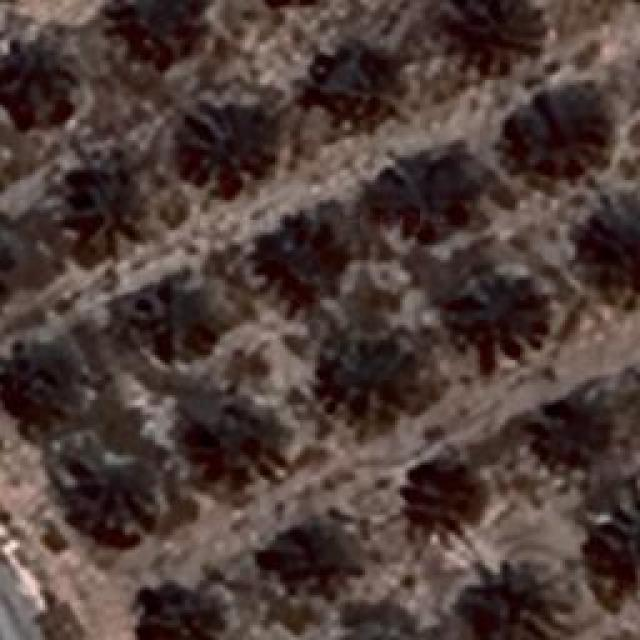PalmTree: (11, 68, 73, 265), (182, 99, 282, 199), (58, 158, 150, 248), (141, 274, 229, 366), (399, 448, 479, 542), (455, 270, 533, 358), (81, 458, 161, 542), (271, 516, 354, 596), (185, 392, 270, 470), (337, 338, 415, 420), (448, 0, 536, 72), (262, 215, 336, 300), (322, 45, 402, 123), (470, 565, 552, 640), (4, 340, 78, 422), (118, 0, 205, 68), (395, 162, 470, 240), (522, 97, 606, 165), (538, 404, 612, 474), (585, 211, 640, 289), (146, 587, 221, 640), (600, 496, 640, 584), (0, 222, 15, 310)
